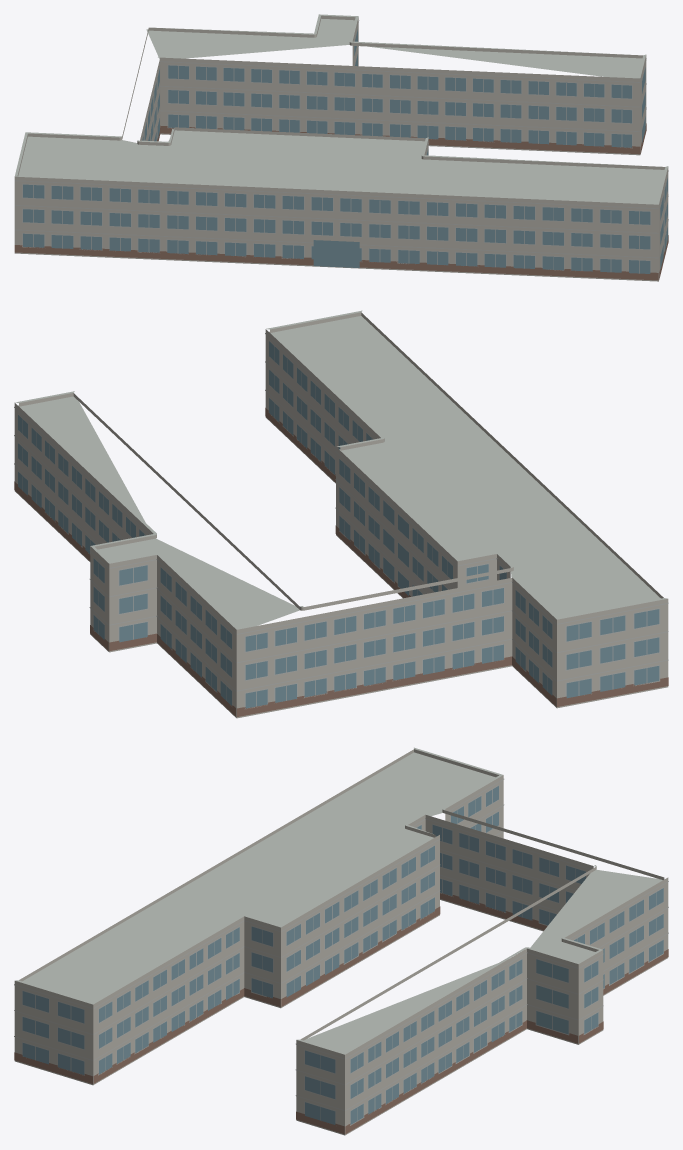
File: public-a29a3a97-a4f6-4973-b60d-0cf0fc0b1d26.glb
3 renders of one model, top to bottom at view 1: azimuth 30°, elevation 25°; view 2: azimuth 150°, elevation 25°; view 3: azimuth 270°, elevation 25°, orthographic. The views are drawn at different scales.
Visible parts, largest first — view 1: public-a29a3a97-a4f6-4973-b60d-0cf0fc0b1d26; view 2: public-a29a3a97-a4f6-4973-b60d-0cf0fc0b1d26; view 3: public-a29a3a97-a4f6-4973-b60d-0cf0fc0b1d26.
Part boxes in pixels (x1,y1,x2,y2): public-a29a3a97-a4f6-4973-b60d-0cf0fc0b1d26: [14, 14, 668, 281]; public-a29a3a97-a4f6-4973-b60d-0cf0fc0b1d26: [14, 310, 668, 718]; public-a29a3a97-a4f6-4973-b60d-0cf0fc0b1d26: [14, 747, 668, 1135].
Size of the model in its own units: 74.77 by 9.15 by 67.24.
